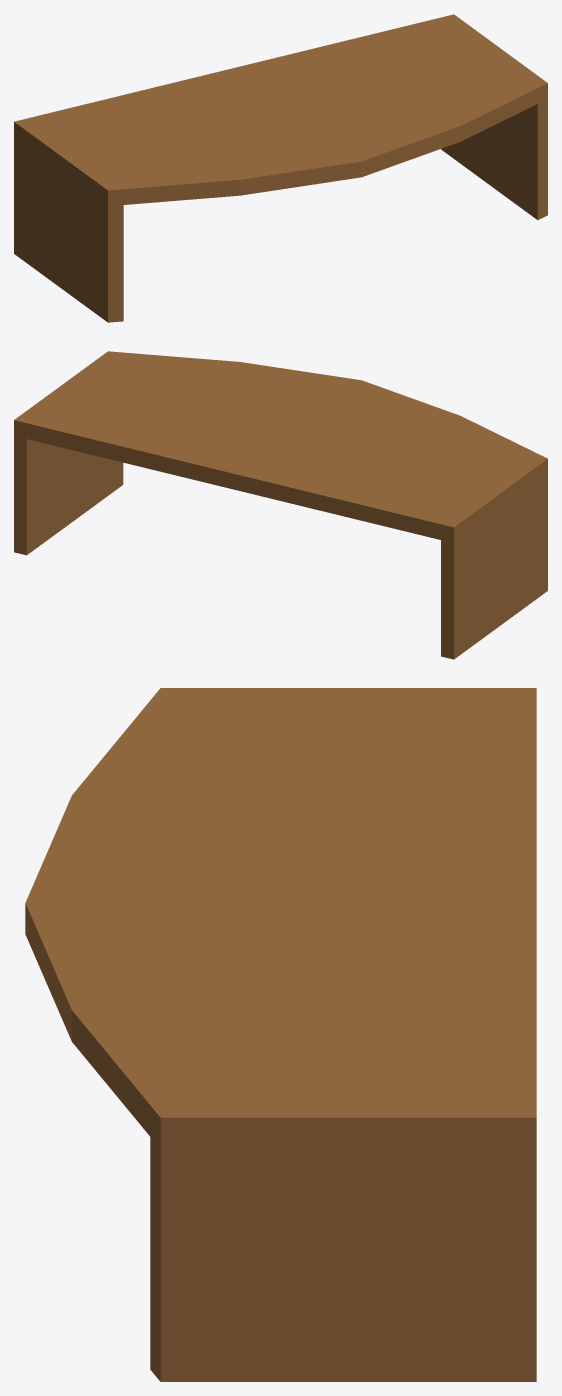
The model's file is Desk.fbx.
3 renders of one model, top to bottom at view 1: azimuth 30°, elevation 25°; view 2: azimuth 150°, elevation 25°; view 3: azimuth 270°, elevation 25°, orthographic. The views are drawn at different scales.
Visible parts, largest first — view 1: Cube; view 2: Cube; view 3: Cube.
Part boxes in pixels (<box>): Cube: <box>14,14,547,322</box>; Cube: <box>14,351,547,659</box>; Cube: <box>25,688,536,1381</box>.
Bounding box in the file's own units: 453 × 130 × 228.
